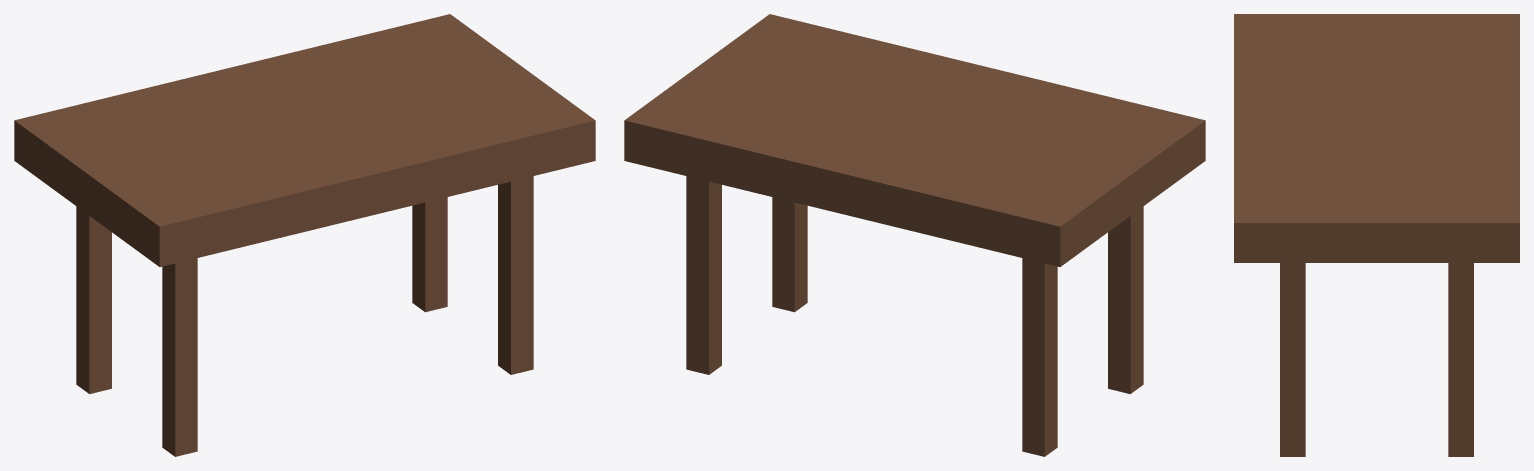
The model's file is table.glb.
The picture shows the model from 3 angles, left to right: view 1: azimuth 30°, elevation 25°; view 2: azimuth 150°, elevation 25°; view 3: azimuth 270°, elevation 25°; orthographic projection.
Parts seen in each view (by area): view 1: top, leg (×4); view 2: top, leg (×4); view 3: top, leg (×2).
Part boxes in pixels (x1,y1,x2,y2): top: [14, 14, 595, 266]; leg (×4): [76, 176, 533, 456]; top: [624, 14, 1205, 266]; leg (×4): [686, 176, 1143, 456]; top: [1234, 14, 1519, 262]; leg (×2): [1280, 263, 1473, 456].
Bounding box in the file's own units: 1.35 × 0.76 × 0.78.
